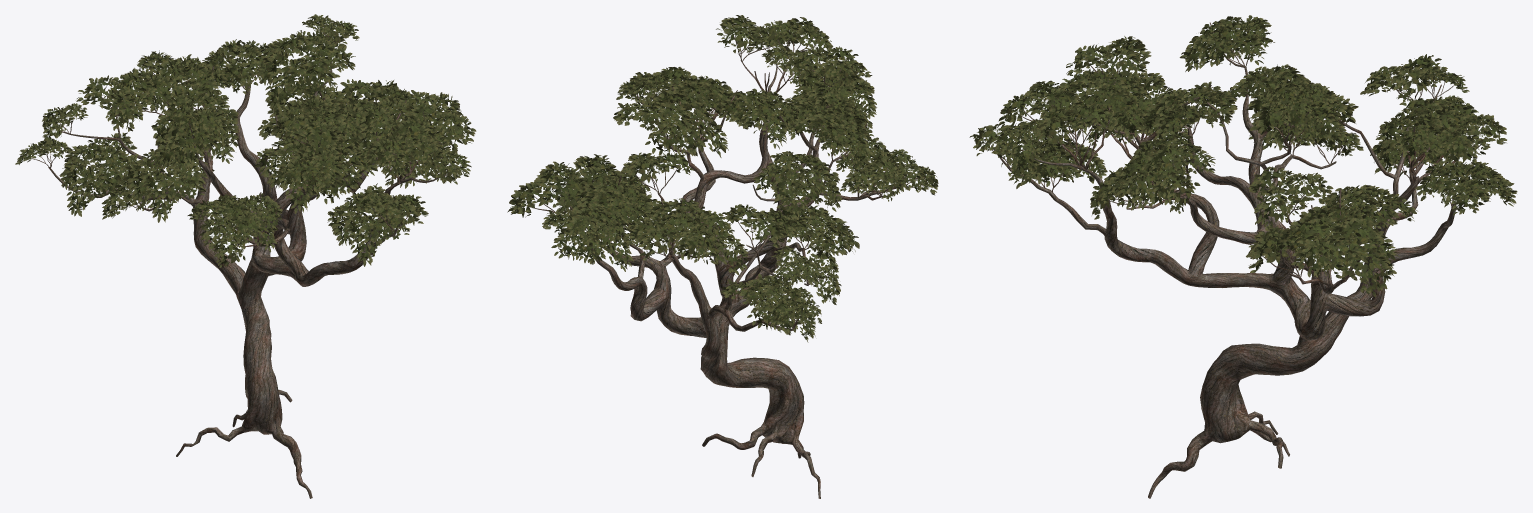
File: tree.obj
The picture shows the model from 3 angles, left to right: view 1: azimuth 30°, elevation 25°; view 2: azimuth 150°, elevation 25°; view 3: azimuth 270°, elevation 25°; orthographic projection. The views are drawn at different scales.
Visible parts, largest first — view 1: old_tree; view 2: old_tree; view 3: old_tree.
Part boxes in pixels (x1,y1,x2,y2): old_tree: (15,14,476,498); old_tree: (507,15,938,498); old_tree: (969,15,1517,498).
Size of the model in its own units: 9.97 by 11.08 by 12.
Materials: 3 (3 with a texture image).
